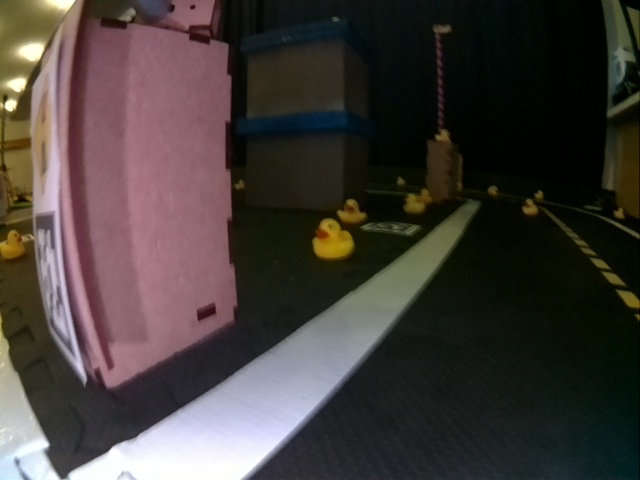Duckie: (313, 222, 351, 259), (337, 200, 365, 223), (2, 231, 23, 259), (404, 197, 423, 213), (417, 189, 431, 204), (523, 200, 537, 214), (436, 130, 450, 142), (614, 208, 624, 218), (487, 186, 497, 195), (535, 190, 544, 200)
QR code: (33, 212, 83, 372), (360, 221, 420, 235)
